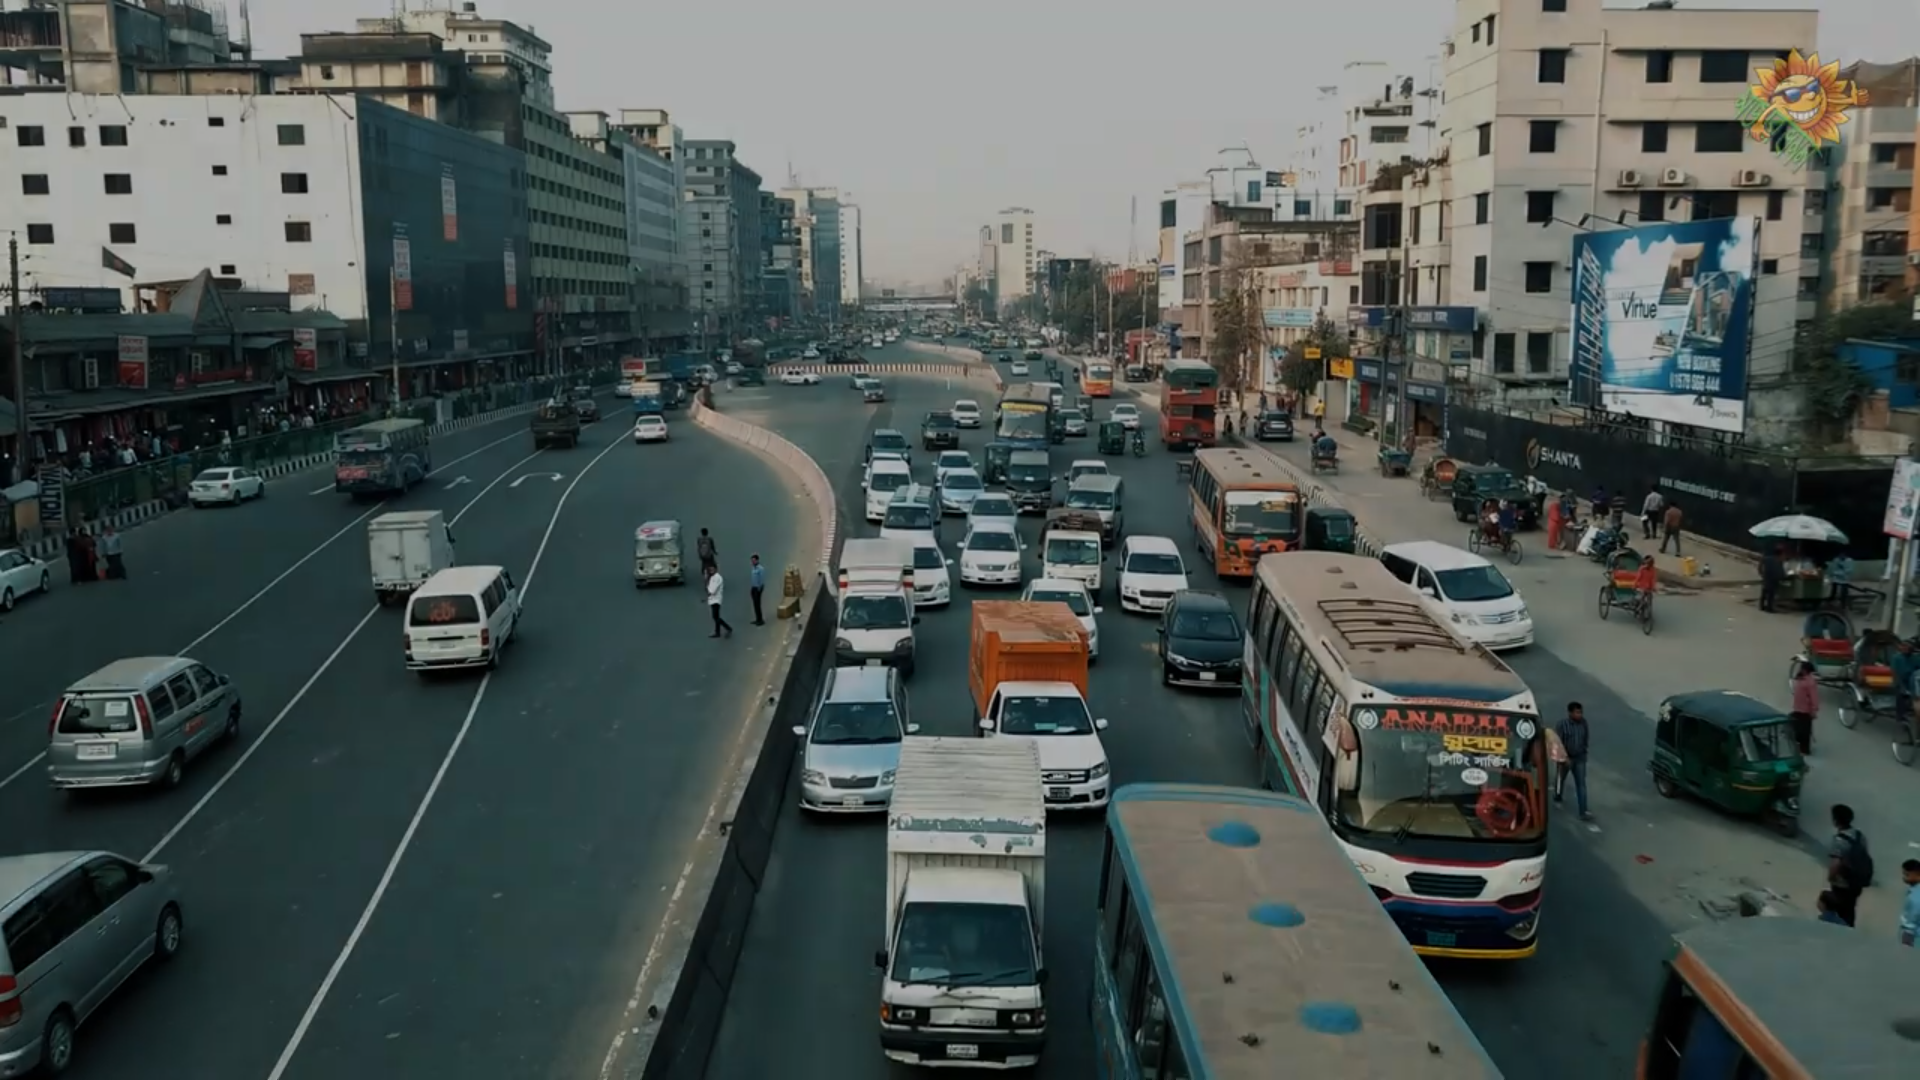HeavyVehicle: (876, 733, 1052, 1069)
LightVehicle: (44, 655, 241, 800), (1644, 684, 1808, 851), (406, 567, 520, 686), (636, 520, 688, 595), (186, 465, 278, 505), (633, 411, 674, 444)
